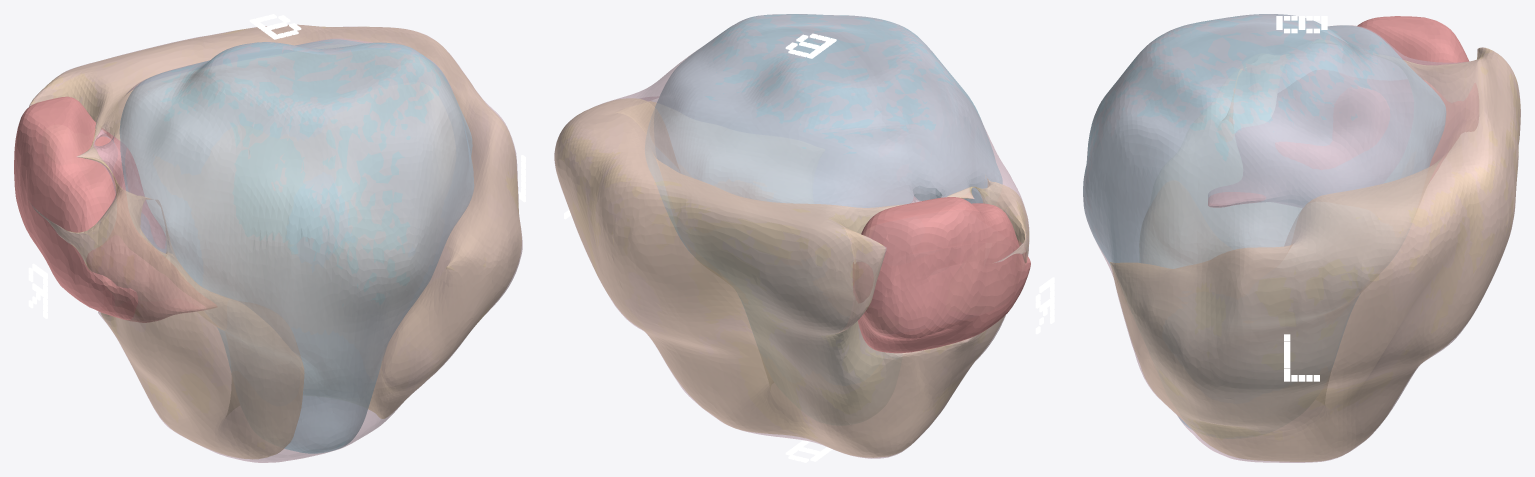
3 views of the same model, side by side, from view 1: azimuth 30°, elevation 25°; view 2: azimuth 150°, elevation 25°; view 3: azimuth 270°, elevation 25° (orthographic). The views are drawn at different scales.
Parts seen in each view (by area): view 1: prostate_gland, transition_zone, peripheral_zone, lesion_01, pv_ar_marker_B, pv_ar_marker_R; view 2: prostate_gland, peripheral_zone, transition_zone, lesion_01, pv_ar_marker_B, pv_ar_marker_R; view 3: prostate_gland, peripheral_zone, transition_zone, lesion_01, pv_ar_marker_B, pv_ar_marker_L.
Boxes of the visible parts, bbox=[...] form: prostate_gland: bbox=[29, 24, 522, 462]; transition_zone: bbox=[120, 39, 473, 453]; peripheral_zone: bbox=[29, 25, 521, 459]; lesion_01: bbox=[14, 96, 216, 322]; pv_ar_marker_B: bbox=[249, 14, 301, 39]; pv_ar_marker_R: bbox=[28, 263, 47, 318]; prostate_gland: bbox=[554, 14, 1029, 458]; peripheral_zone: bbox=[555, 98, 1029, 457]; transition_zone: bbox=[645, 14, 1002, 339]; lesion_01: bbox=[853, 197, 1030, 353]; pv_ar_marker_B: bbox=[785, 33, 836, 58]; pv_ar_marker_R: bbox=[1035, 277, 1054, 334]; prostate_gland: bbox=[1083, 14, 1520, 462]; peripheral_zone: bbox=[1110, 47, 1520, 461]; transition_zone: bbox=[1083, 14, 1445, 429]; lesion_01: bbox=[1208, 16, 1478, 207]; pv_ar_marker_B: bbox=[1276, 16, 1327, 33]; pv_ar_marker_L: bbox=[1284, 334, 1319, 381].
Bounding box in the file's own units: 0.0491 × 0.0404 × 0.0375.
